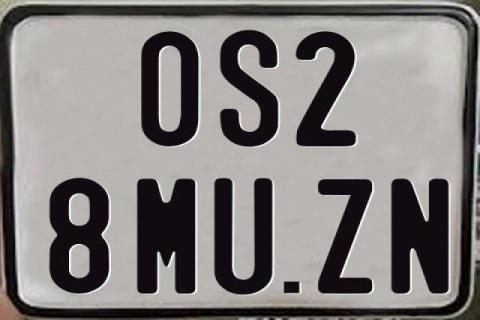0: (49, 177, 111, 297), (140, 29, 200, 148), (293, 29, 354, 145)
M: (137, 176, 197, 294)
N: (390, 178, 452, 294)
S: (218, 28, 280, 148)
U: (214, 177, 274, 293)
Z: (315, 177, 371, 292)
